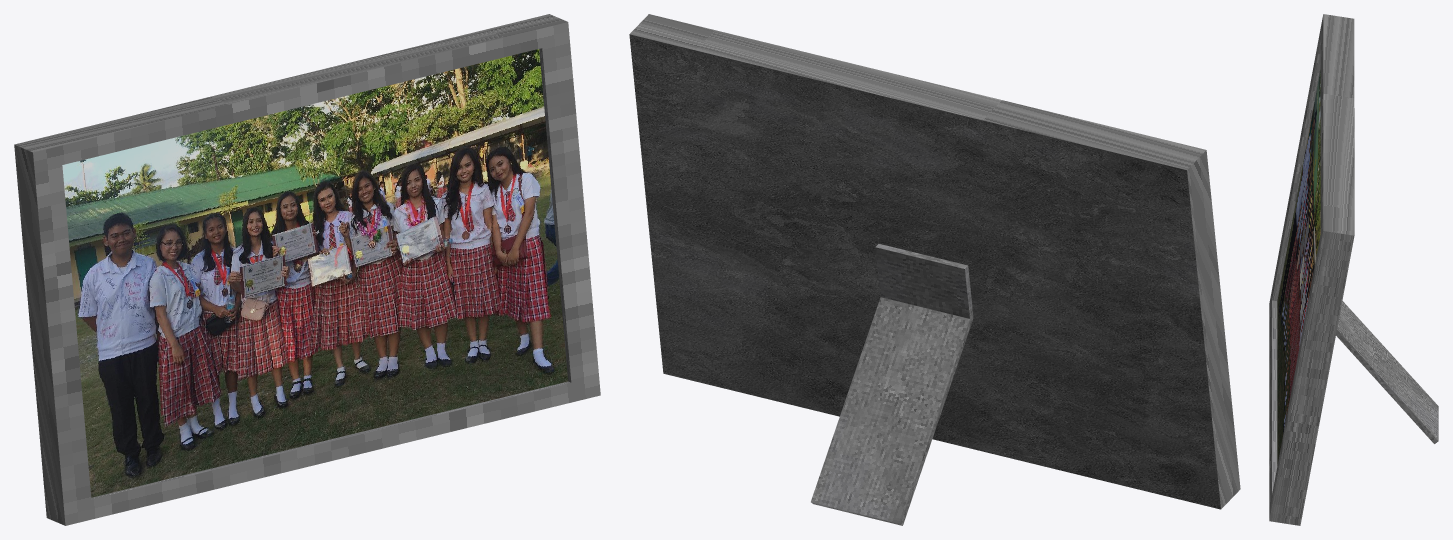
The model's file is Kampo Aang.glb.
3 renders of one model, left to right at view 1: azimuth 30°, elevation 25°; view 2: azimuth 150°, elevation 25°; view 3: azimuth 270°, elevation 25°, orthographic. The views are drawn at different scales.
Visible parts, largest first — view 1: Cube.002; view 2: Cube.002; view 3: Cube.002.
Boxes of the visible parts, <box> form: Cube.002: <box>14,14,600,525</box>; Cube.002: <box>629,14,1240,525</box>; Cube.002: <box>1269,14,1438,525</box>.
Size of the model in its own units: 3.16 by 2.07 by 1.04.
3 materials, 3 textured.
